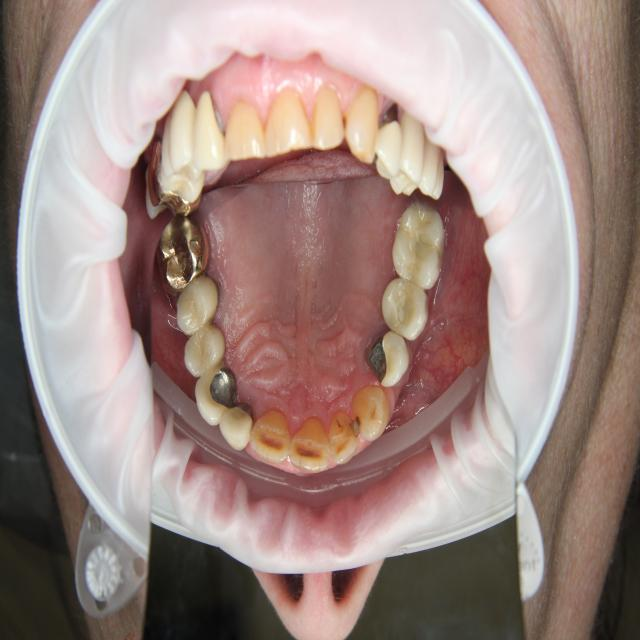tooth: (387, 200, 452, 293), (149, 209, 215, 299), (378, 270, 432, 345), (173, 273, 224, 340), (360, 327, 413, 390), (190, 361, 238, 430), (246, 400, 291, 465), (181, 320, 228, 380), (349, 379, 391, 445), (288, 413, 330, 475), (216, 393, 259, 450), (325, 407, 361, 465)
